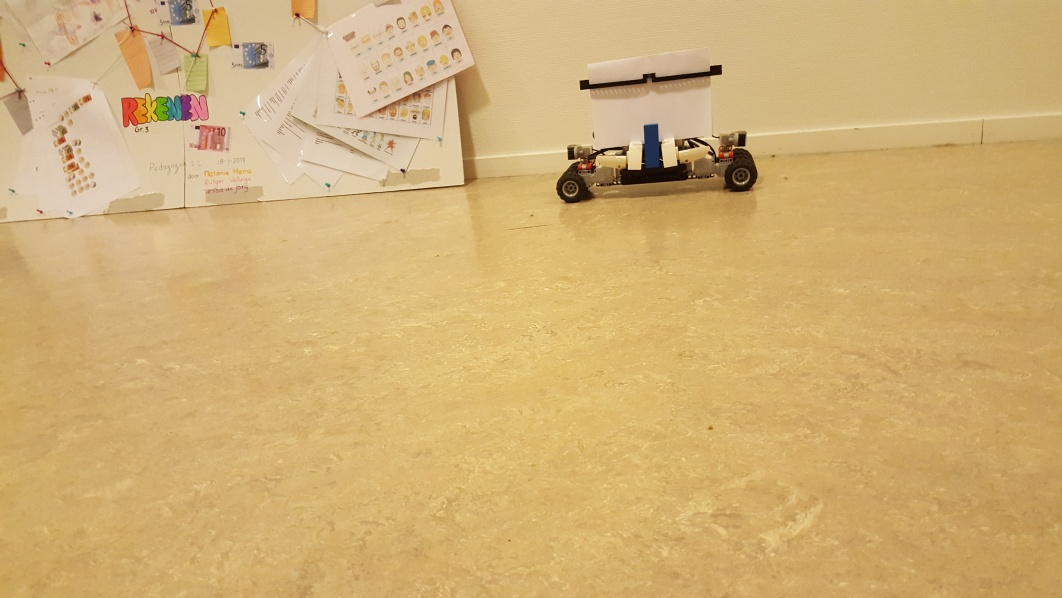beam: (643, 121, 662, 171)
